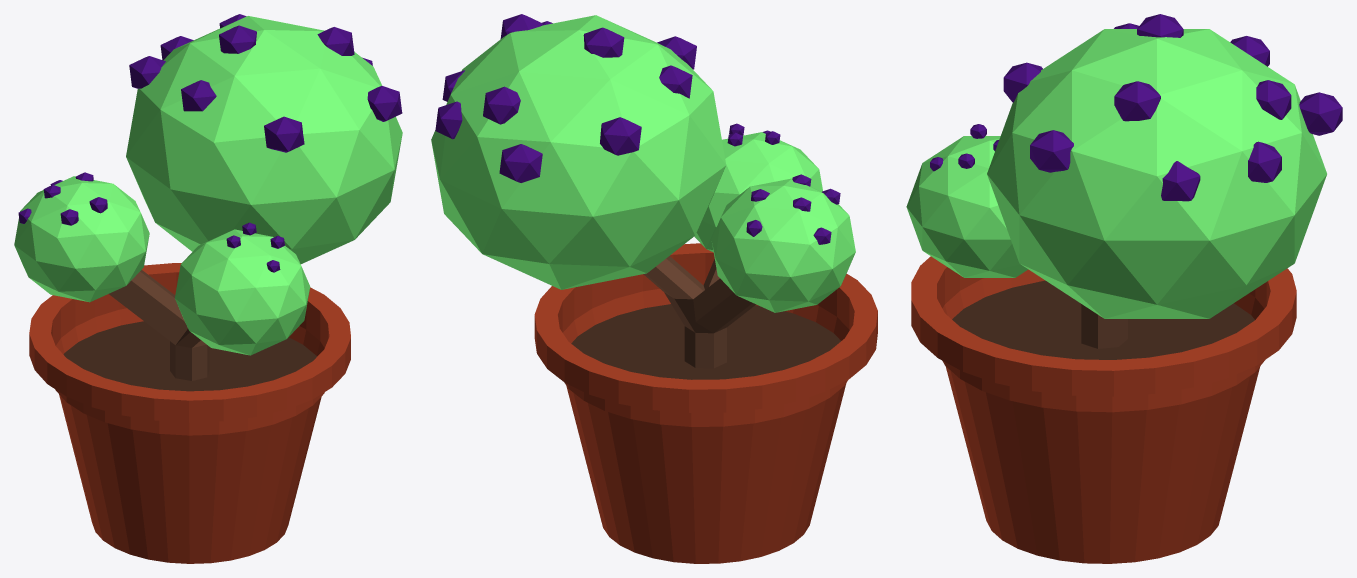
File: berryBush.glb
3 views of the same model, side by side, from view 1: azimuth 30°, elevation 25°; view 2: azimuth 150°, elevation 25°; view 3: azimuth 270°, elevation 25° (orthographic). The views are drawn at different scales.
Visible parts, largest first — view 1: BerryBush; view 2: BerryBush; view 3: BerryBush.
Part boxes in pixels (<box>): BerryBush: <box>14,14,402,563</box>; BerryBush: <box>431,14,877,563</box>; BerryBush: <box>906,14,1342,563</box>.
Bounding box in the file's own units: 0.9 × 1.1 × 0.8.
Materials: 1 (1 with a texture image).
